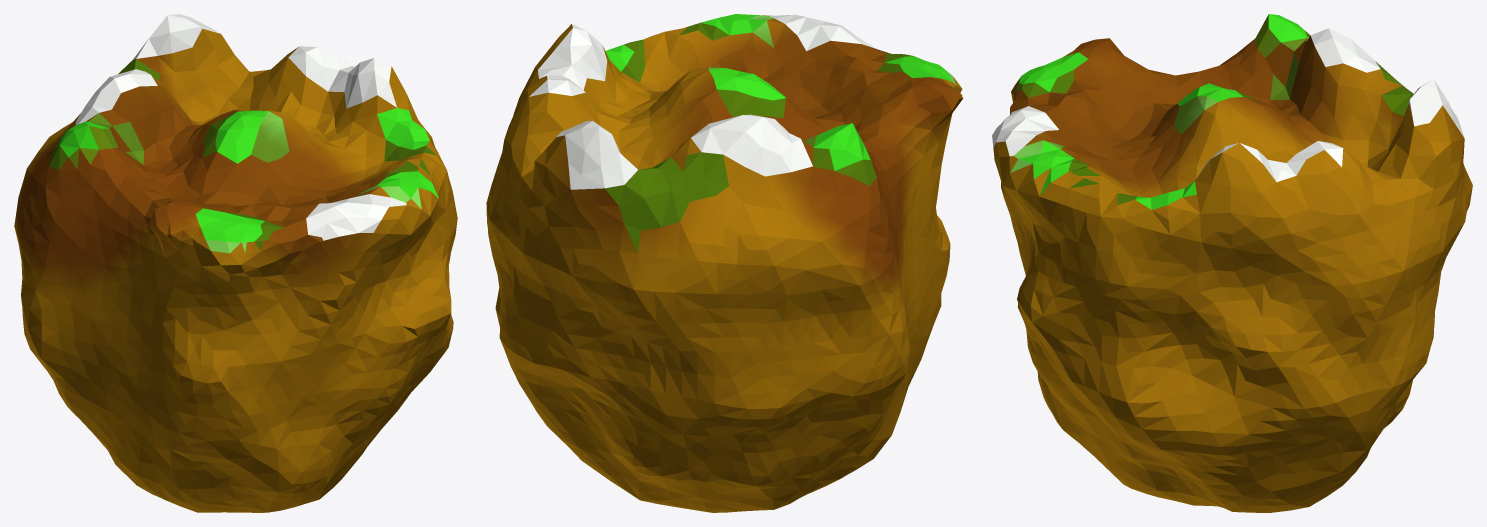
Rendered from land2.fbx.
The picture shows the model from 3 angles, left to right: view 1: azimuth 30°, elevation 25°; view 2: azimuth 150°, elevation 25°; view 3: azimuth 270°, elevation 25°; orthographic projection. The views are drawn at different scales.
Visible parts, largest first — view 1: Icosphere; view 2: Icosphere; view 3: Icosphere.
Part boxes in pixels (x1,y1,x2,y2): Icosphere: (14,14,457,512); Icosphere: (486,14,963,512); Icosphere: (992,14,1472,512).
Bounding box in the file's own units: 174 × 185 × 188.
